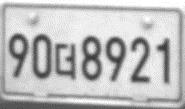0: (32, 33, 52, 79)
1: (156, 37, 173, 85)
2: (129, 36, 151, 83)
8: (81, 35, 103, 81)
9: (7, 32, 29, 79), (104, 36, 126, 83)
더: (53, 42, 77, 80)
